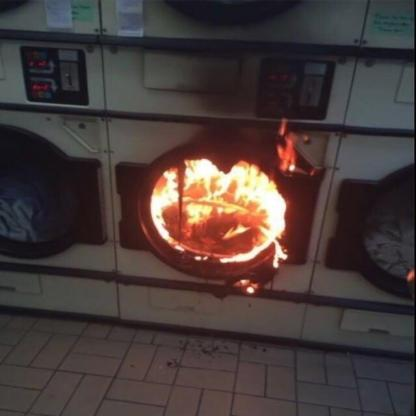fire: (157, 115, 297, 262)
